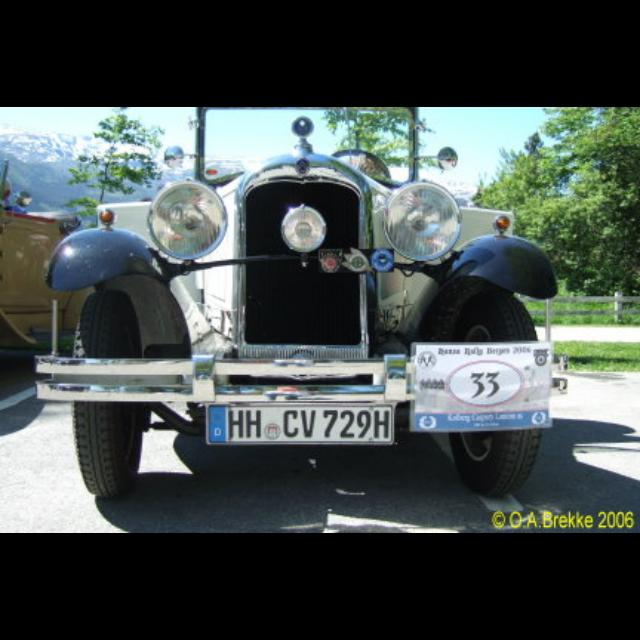d_license_plate: (206, 404, 392, 442)
